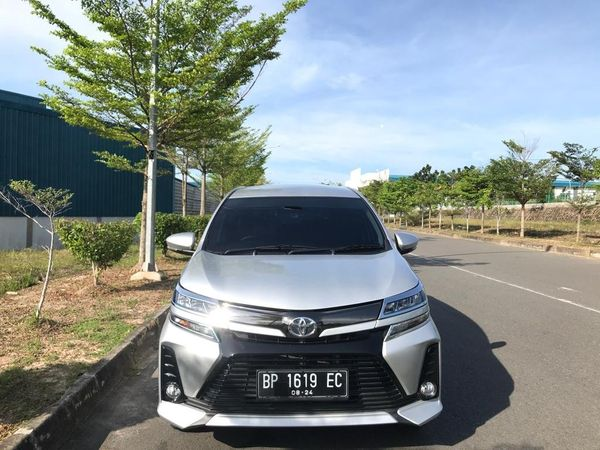plate: (252, 368, 350, 400)
